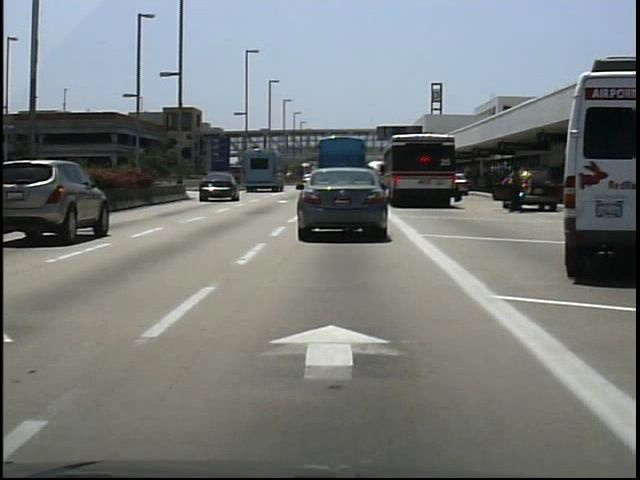person: (504, 164, 526, 217)
